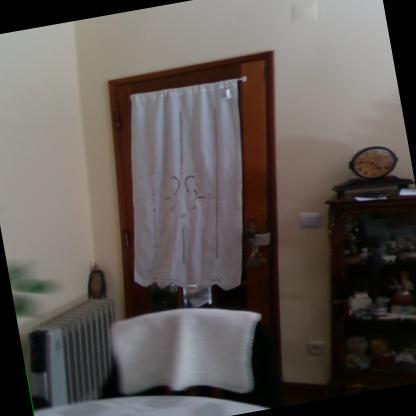closed: (72, 38, 334, 413)
